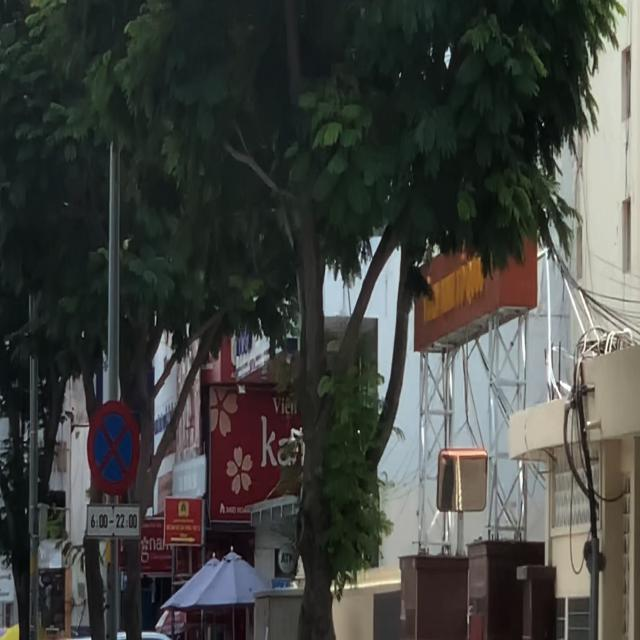Cam dung va do: (86, 392, 142, 498)
